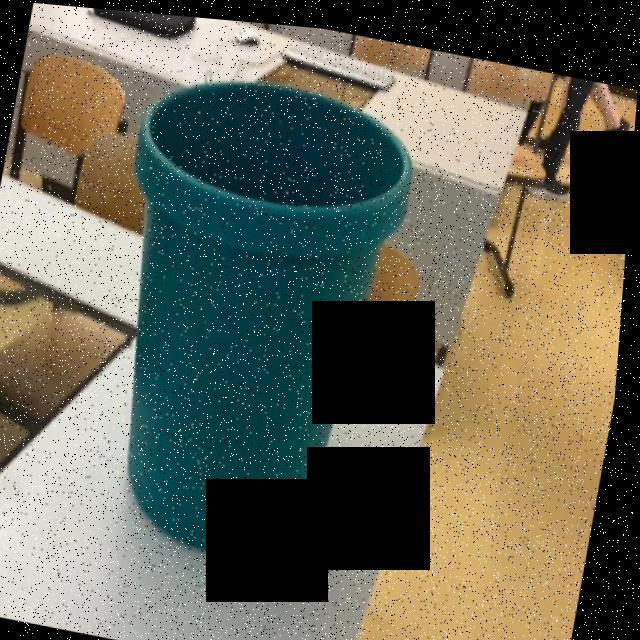bin: (46, 9, 461, 609)
